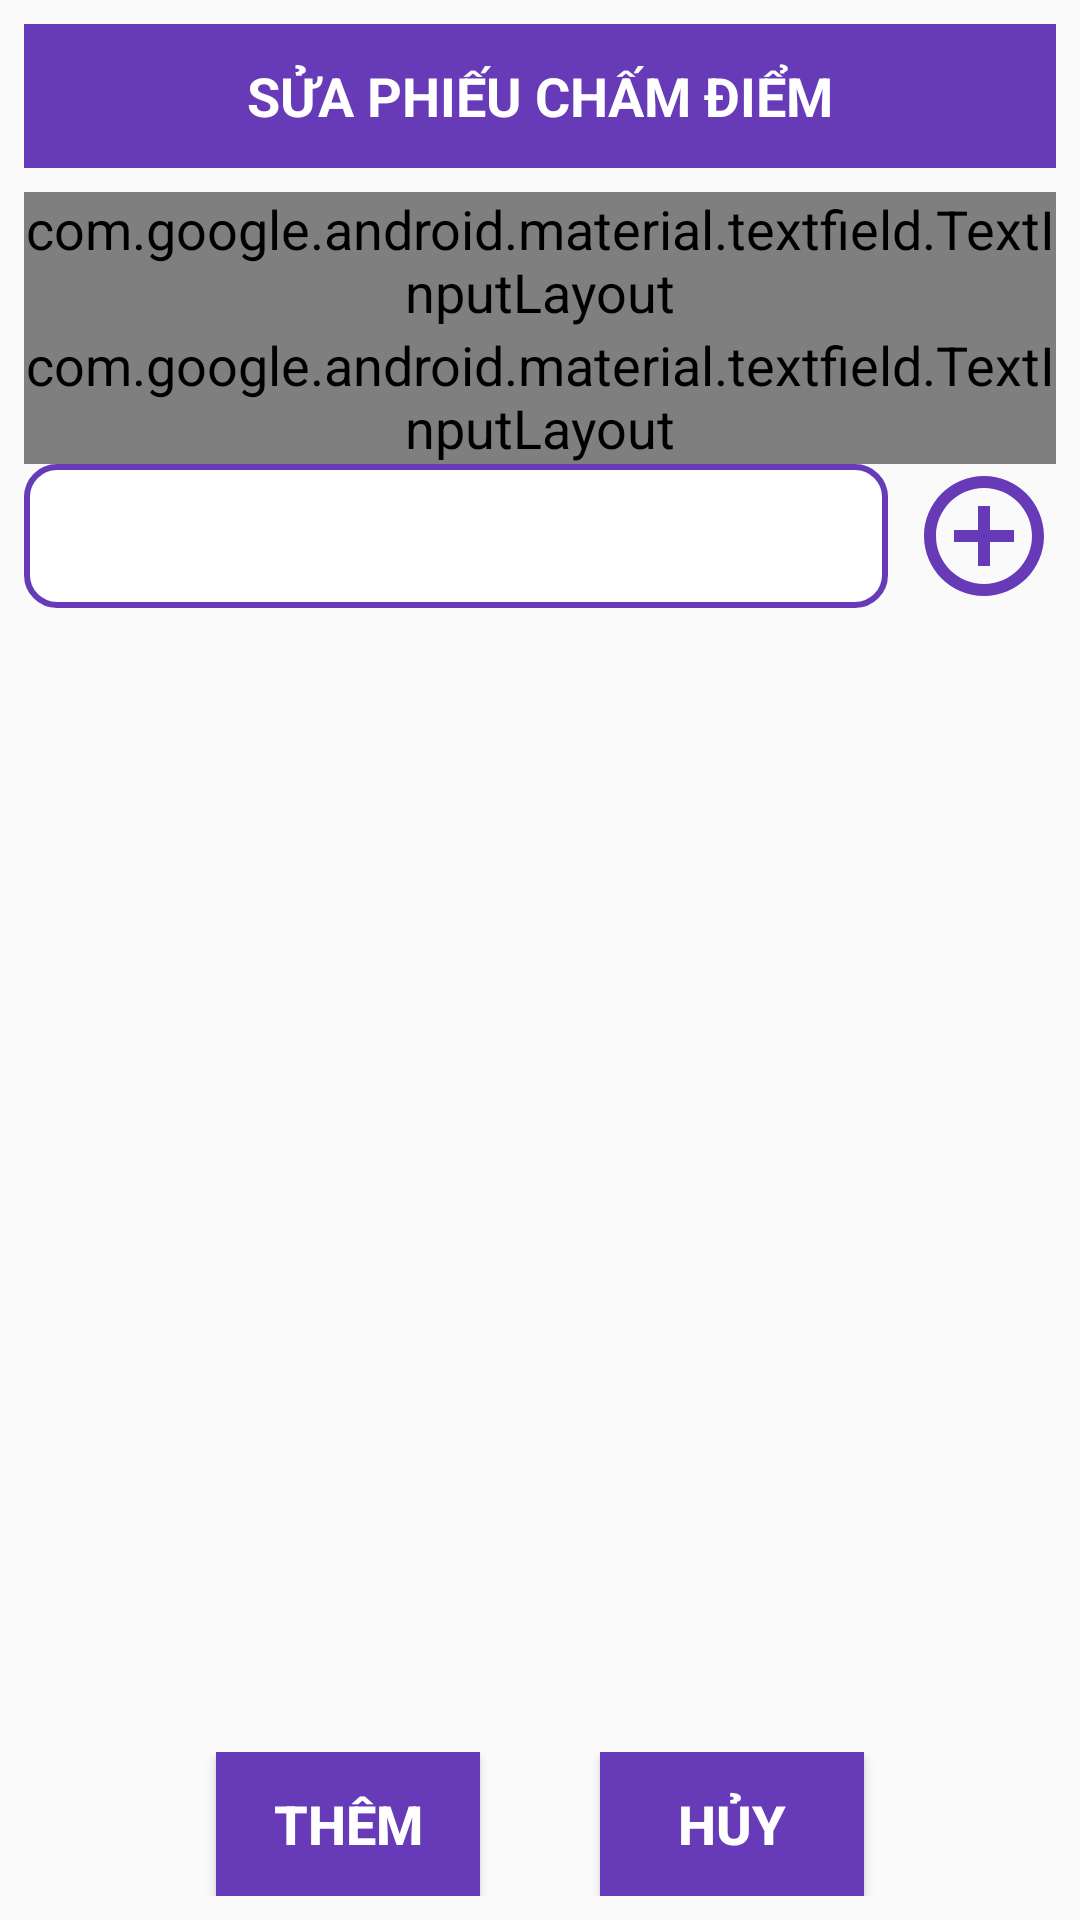

Icon bounding boxes for this 1080 × 1920 phone screenshot, format bbox(x1, y1, x2, y2):
add: bbox(924, 476, 1044, 596)
